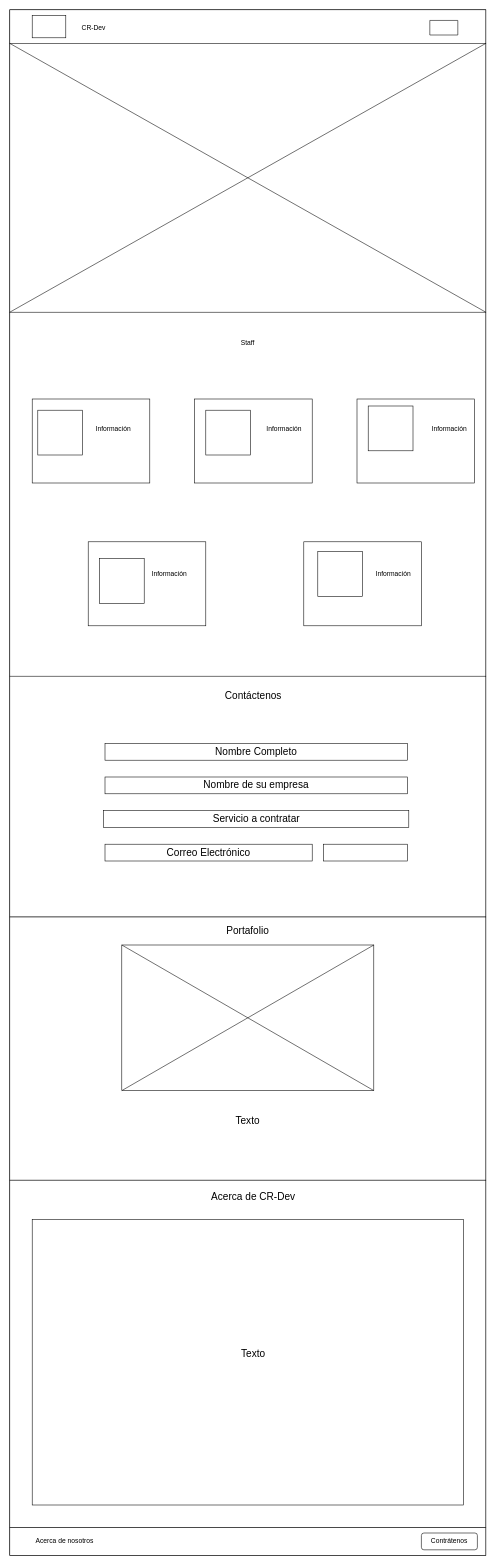
This 496x1565 diagram has some shape labels left out. Here are the shapes that lost their labels. From the top down, the centre of each, then its label:
point 49,26: Logotipo
point 443,27: Hover
point 365,852: Teléfono
